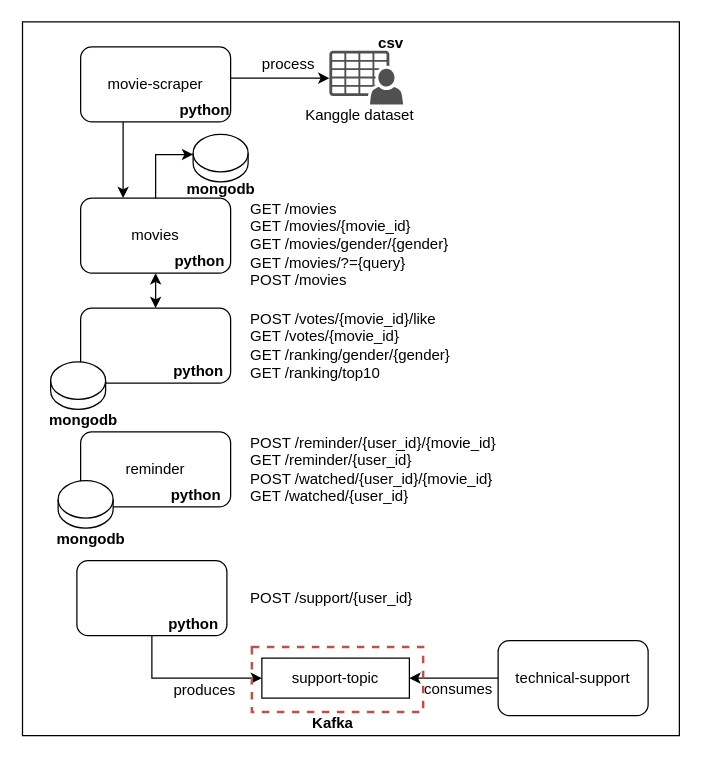
The diagram is 701 pixels wide and 758 high, and some of its shapes have lost their labels. The shapes that lost their labels are listed below. From the top down, each one's box as (x1, y1, x2, y2) in pixels, then its label:
(79, 307, 231, 383): ranking
(76, 559, 227, 636): support
